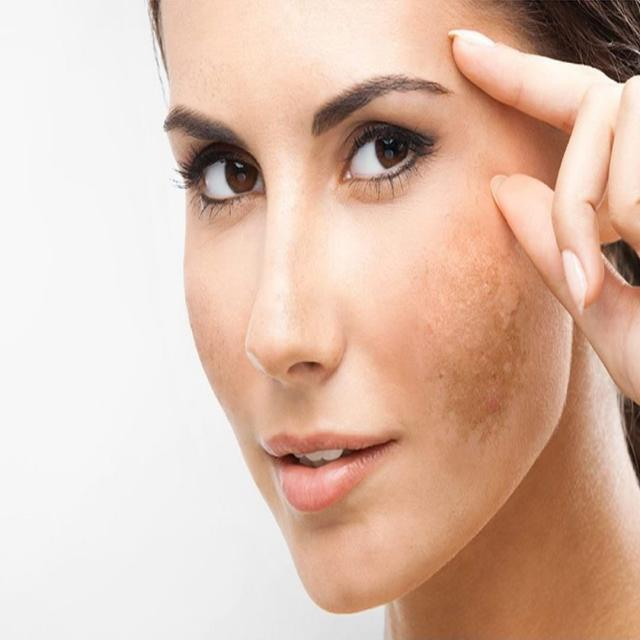Dark-Spots: (412, 248, 539, 456)
